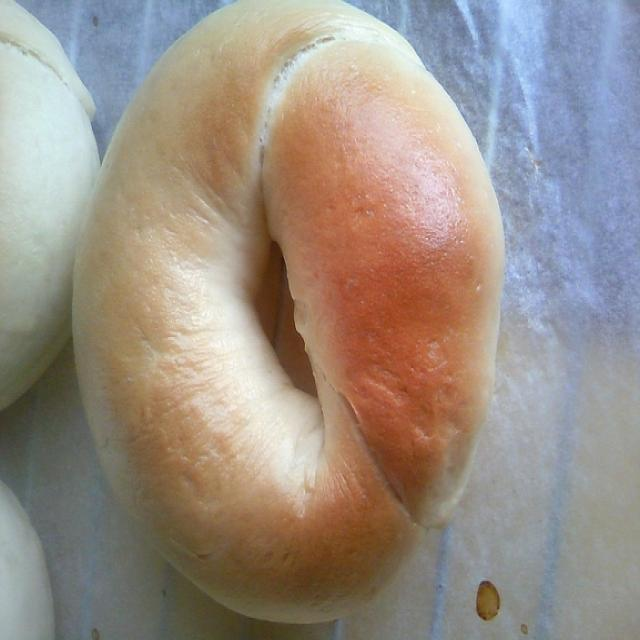面包点心: (41, 15, 551, 634)
